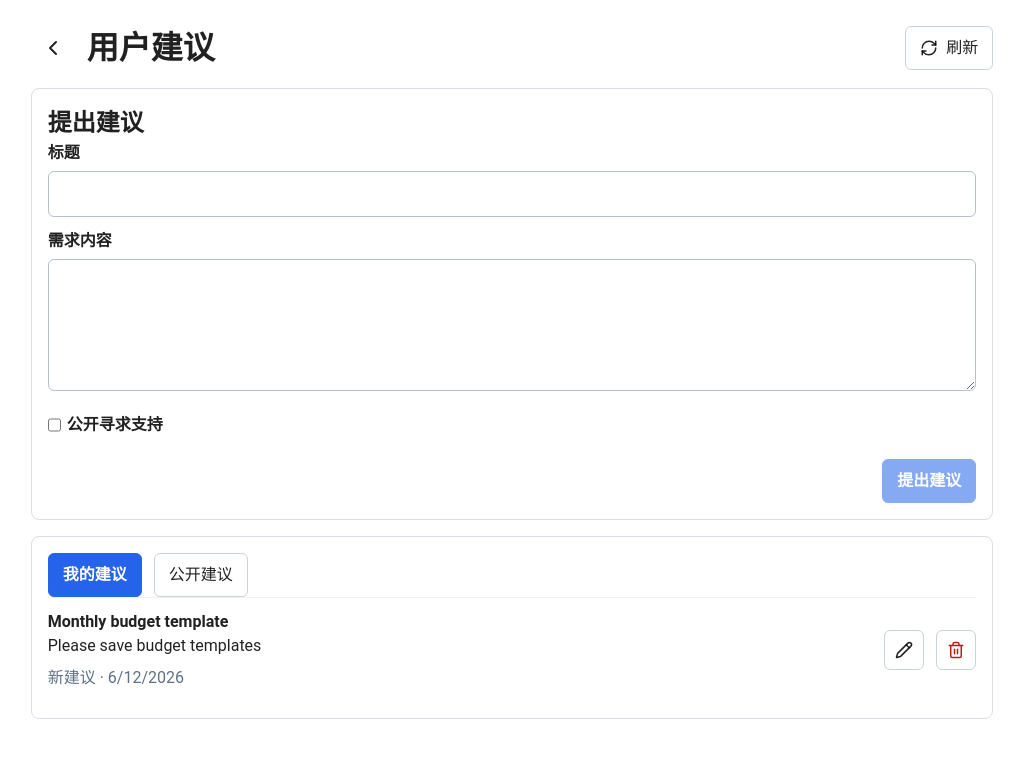
Test: SuggestionsView › shows a floating error when voting is rejected
Expected: the list item is shown, [48,597,976,702]
What coordinates should you click on to do the following:
click the button "公开建议"
I would click on:
 (201, 575)
Its box is [154,553,248,597].
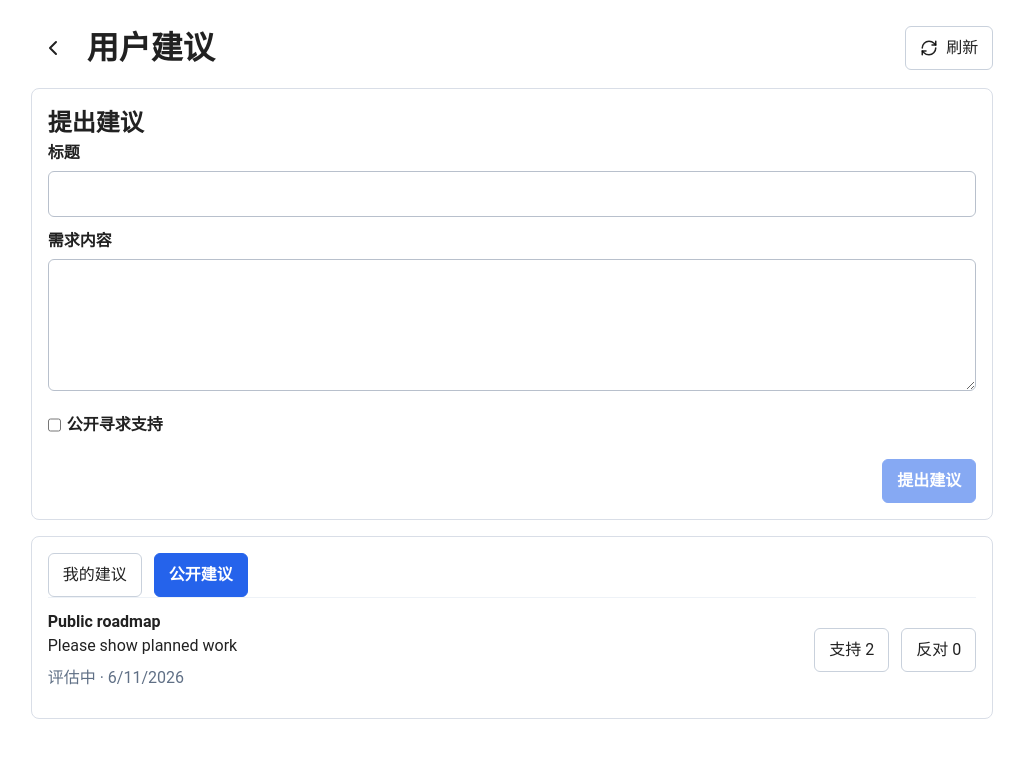
What coordinates should you click on to do the following:
click the button "支持 2"
I would click on:
 (852, 650)
Its box is [814,628,889,672].
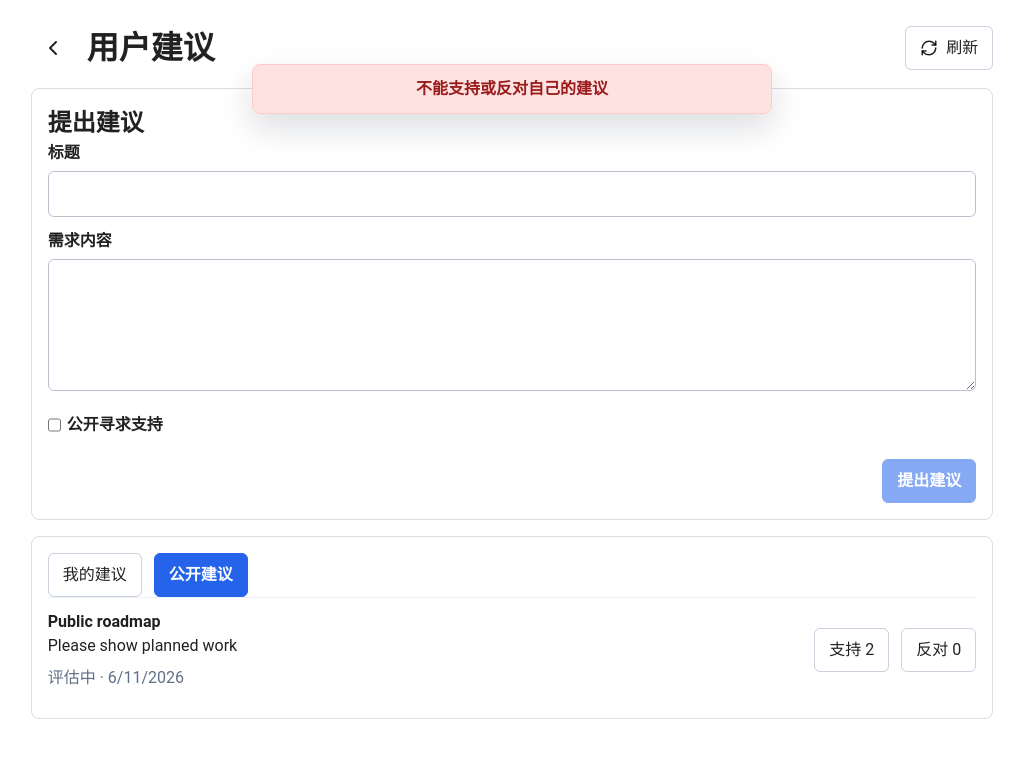
Result: the message "不能支持或反对自己的建议" is shown at [252,64,772,114]
